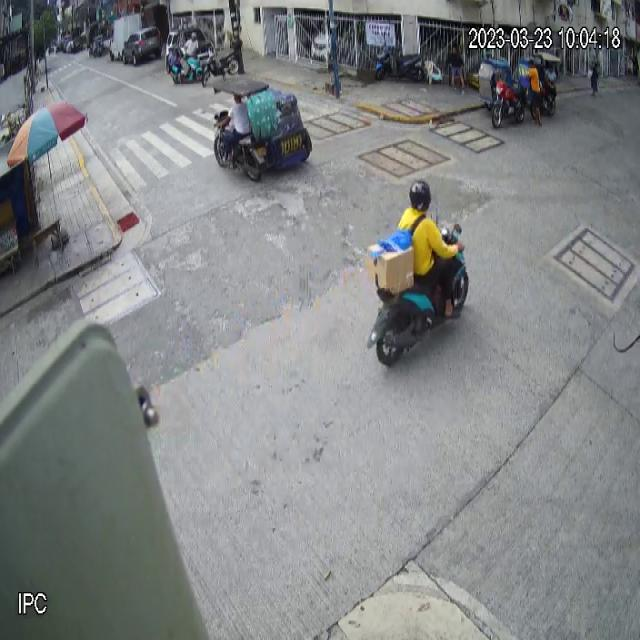Motorcycle: (366, 224, 472, 367)
Tricycle: (207, 74, 313, 180)
